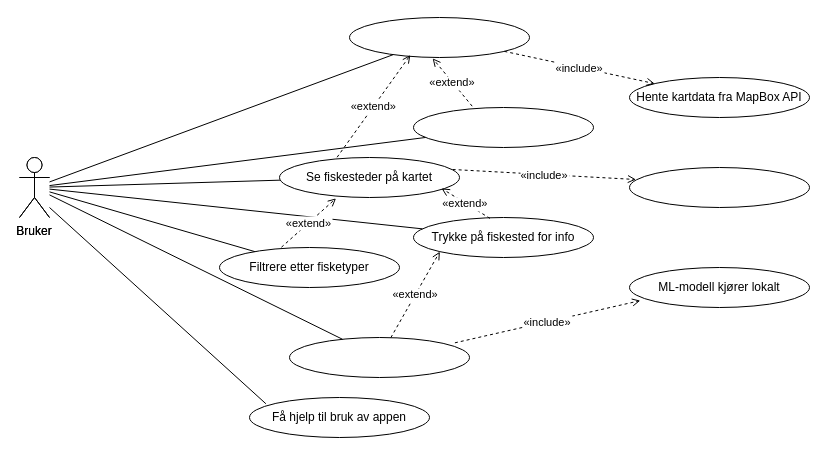
Image size: 828x455. Some labels were removed from this diagram. The shapes that lost their labels are listed below. From the top down, each one's box as (x1, y1, x2, y2) in pixels, then its label:
(348, 16, 530, 58): Se Norgeskart
(412, 106, 594, 148): Søke på by/sted
(628, 166, 810, 208): Hente fiskedata fra Fishbuddy
(288, 336, 470, 378): Se rangering av fiskeplasser
